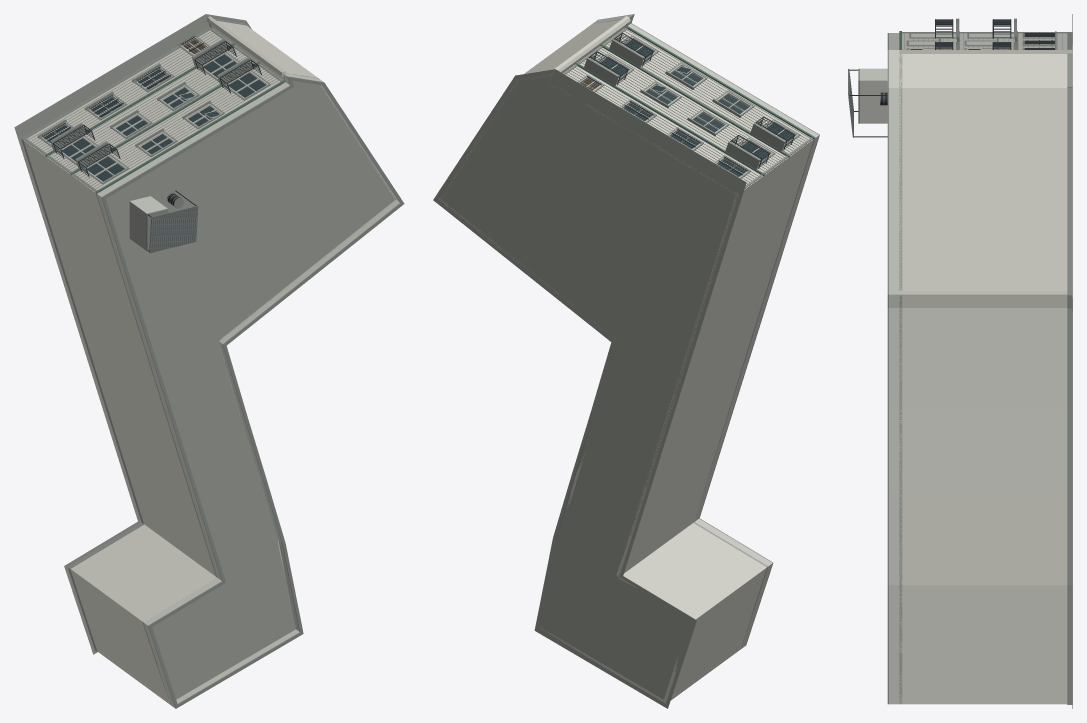
The model's file is lot_1135743.obj.
3 views of the same model, side by side, from view 1: azimuth 30°, elevation 25°; view 2: azimuth 150°, elevation 25°; view 3: azimuth 270°, elevation 25° (orthographic). The views are drawn at different scales.
Parts seen in each view (by area): view 1: roof_slab_12648, wall_12600, wall_12624, parapet_12696, parapet_cap_12800, lot_paving_0, wall_44, wall_236, canopy_sheet_12960, plinth_12612, rooftop_room_12904, plinth_12528 (+1 smaller); view 2: lot_paving_0, wall_12600, wall_12624, wall_44, parapet_12696, wall_236, parapet_cap_12800, roof_slab_12648, floor_band_12564, floor_band_12552; view 3: wall_212, wall_92, wall_164, wall_116, wall_140, parapet_12696, wall_236, wall_188, roof_slab_12648, rooftop_room_12904, parapet_cap_12800, plinth_224 (+6 smaller).
Boxes of the visible parts, box(x1,y1,x2,y2) form: roof_slab_12648: box(95, 73, 395, 699); wall_12600: box(24, 141, 215, 576); wall_12624: box(71, 524, 216, 622); parapet_12696: box(97, 73, 399, 707); parapet_cap_12800: box(101, 76, 404, 708); lot_paving_0: box(14, 14, 251, 654); wall_44: box(70, 569, 169, 701); wall_236: box(206, 19, 317, 78); canopy_sheet_12960: box(149, 205, 198, 253); plinth_12612: box(21, 139, 143, 523); rooftop_room_12904: box(129, 196, 167, 250); plinth_12528: box(21, 28, 209, 139); lot_paving_0: box(433, 69, 746, 708); wall_12600: box(616, 140, 813, 576); wall_12624: box(618, 523, 766, 619); wall_44: box(663, 567, 766, 703); parapet_12696: box(593, 14, 819, 648); wall_236: box(520, 18, 630, 80); parapet_cap_12800: box(597, 14, 819, 645); roof_slab_12648: box(592, 19, 814, 645); floor_band_12564: box(625, 26, 815, 139); floor_band_12552: box(600, 44, 789, 157); wall_212: box(899, 88, 1067, 295); wall_92: box(899, 585, 1067, 704); wall_164: box(899, 308, 1067, 408); wall_116: box(899, 493, 1067, 585); wall_140: box(899, 408, 1067, 493); parapet_12696: box(889, 33, 899, 704); wall_236: box(899, 54, 1067, 87); wall_188: box(899, 290, 1067, 307); roof_slab_12648: box(899, 54, 902, 704); rooftop_room_12904: box(860, 68, 887, 123); parapet_cap_12800: box(887, 33, 888, 704); plinth_224: box(1067, 88, 1072, 294).
Bounding box in the file's own units: 20.16 × 37.62 × 10.88.
